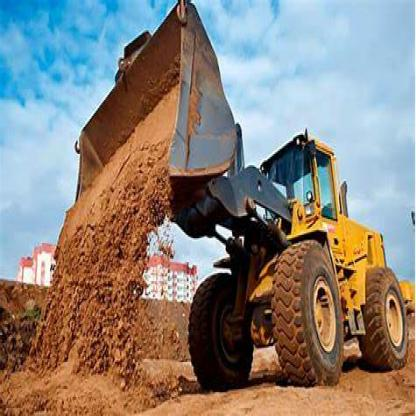bull_dozer/loader/grader: (61, 6, 415, 413)
